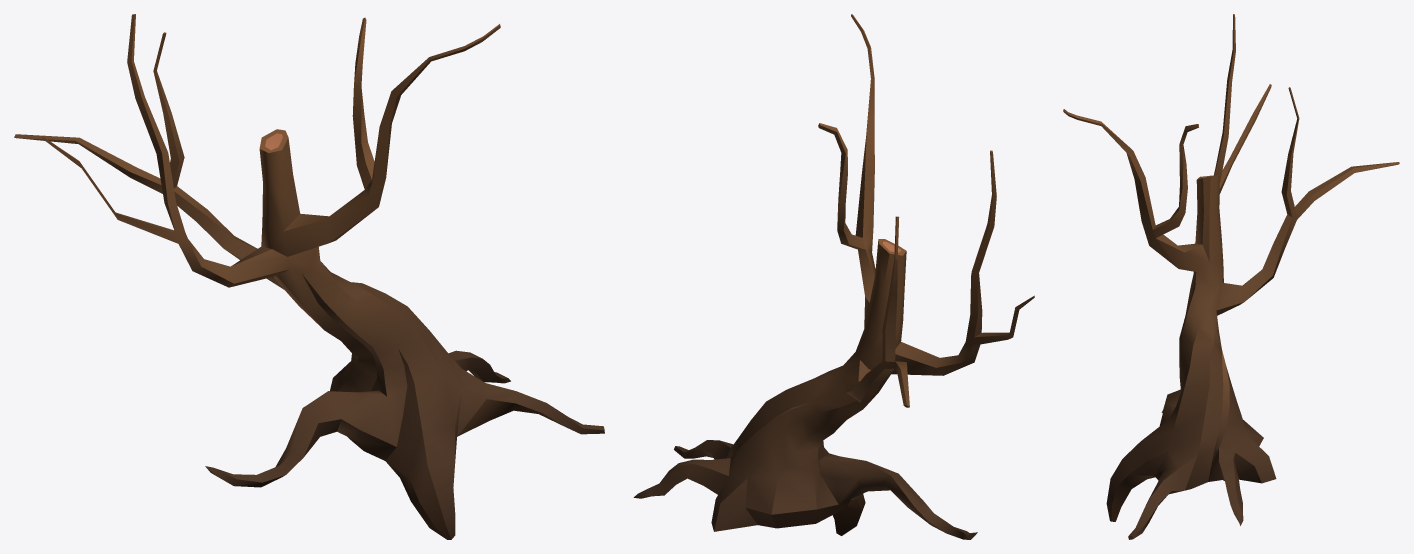
Rendered from Tree_5A.fbx.
3 renders of one model, left to right at view 1: azimuth 30°, elevation 25°; view 2: azimuth 150°, elevation 25°; view 3: azimuth 270°, elevation 25°, orthographic. The views are drawn at different scales.
Visible parts, largest first — view 1: Tree_5A; view 2: Tree_5A; view 3: Tree_5A.
Part boxes in pixels (left/top/right/bottom): Tree_5A: left=14, top=14, right=604, bottom=539; Tree_5A: left=633, top=14, right=1034, bottom=539; Tree_5A: left=1063, top=14, right=1399, bottom=539.
Bounding box in the file's own units: 933 × 1001 × 725.
